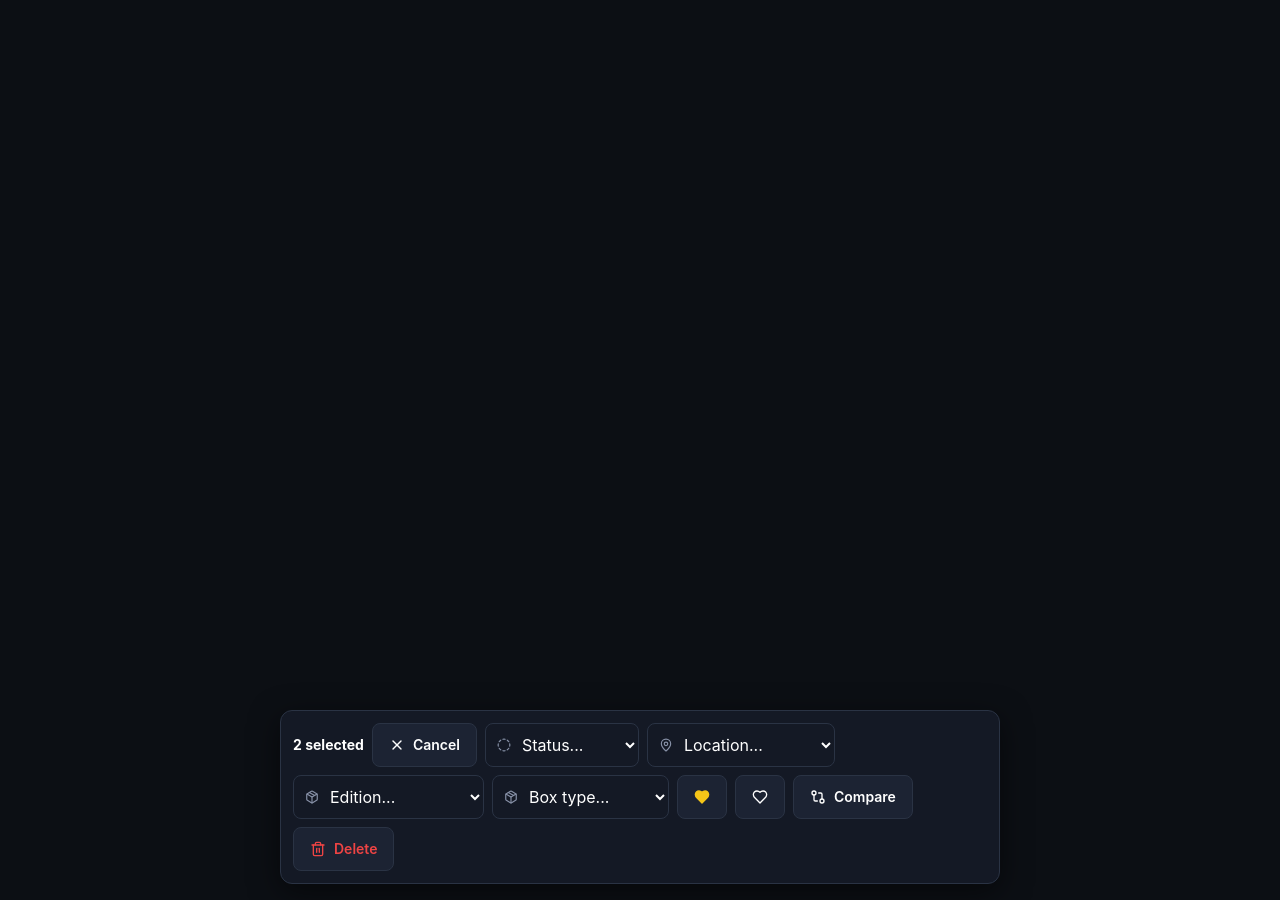
Test: BulkActionBar branches › aborts a delete run mid-flight and reports the stopped state
Click the button "Delete". click: (344,849)
box: [293,827,394,871]
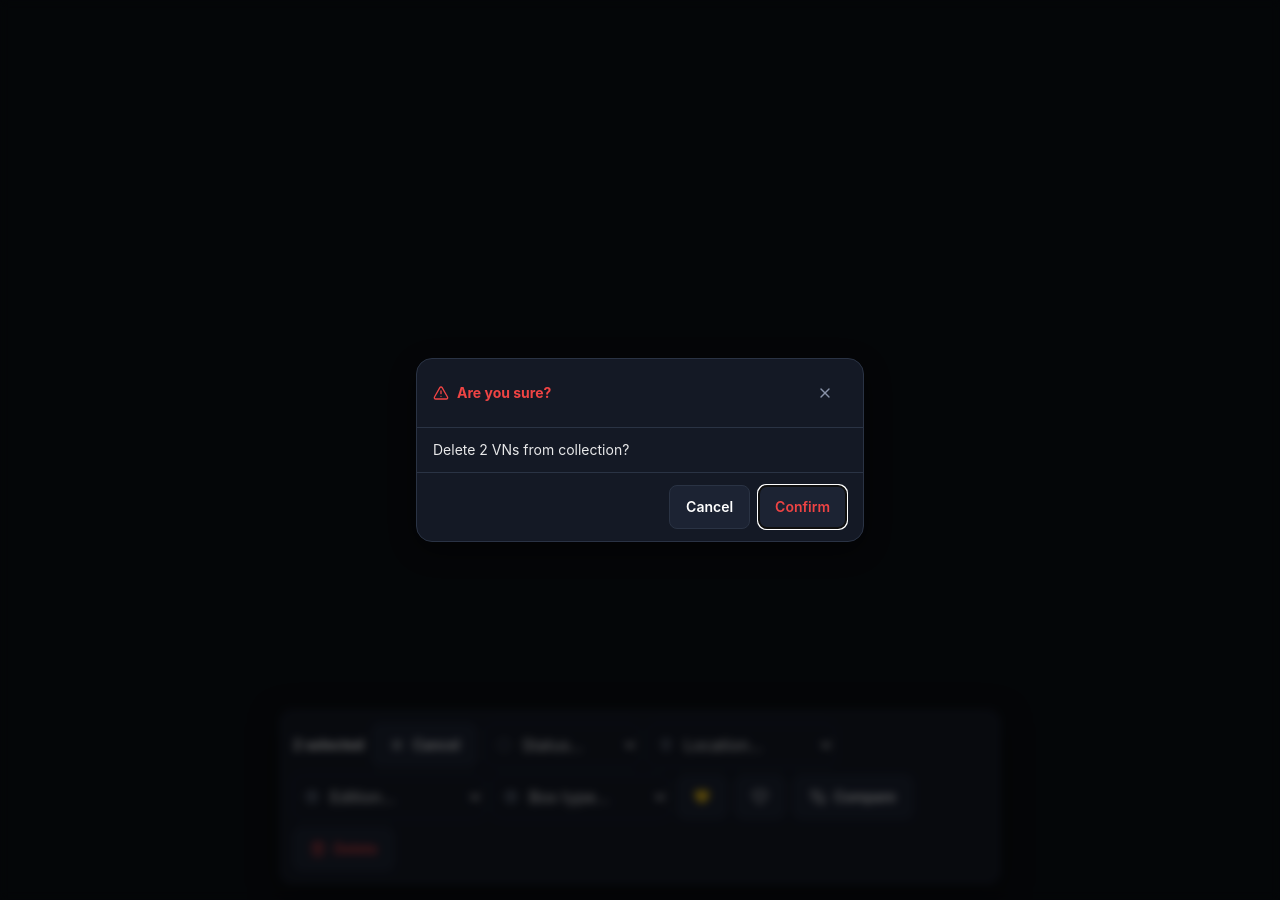
Click the button "Confirm". click: (803,507)
box: [758,485,847,529]
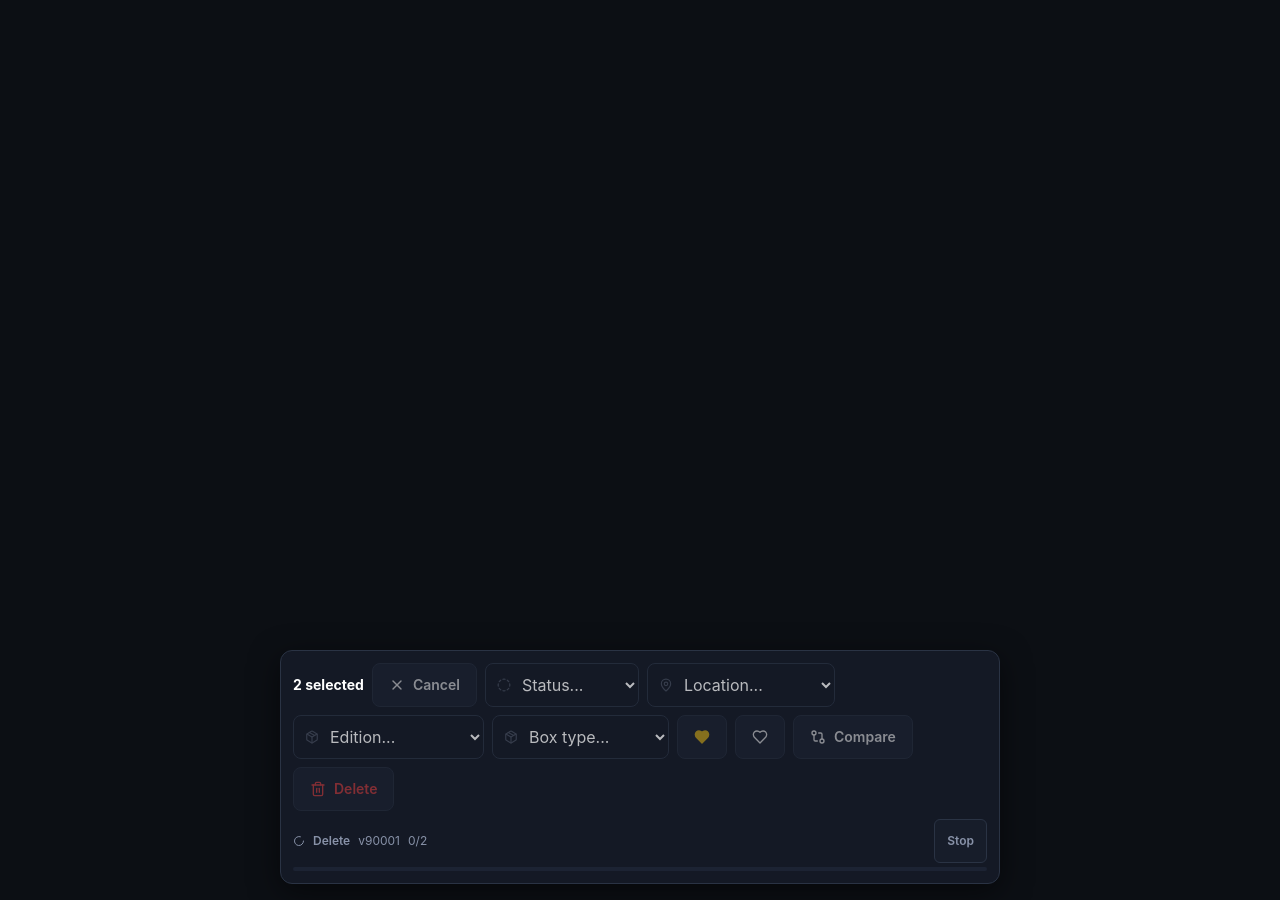
Click the button "Stop". click: (961,841)
box: [934,819,987,863]
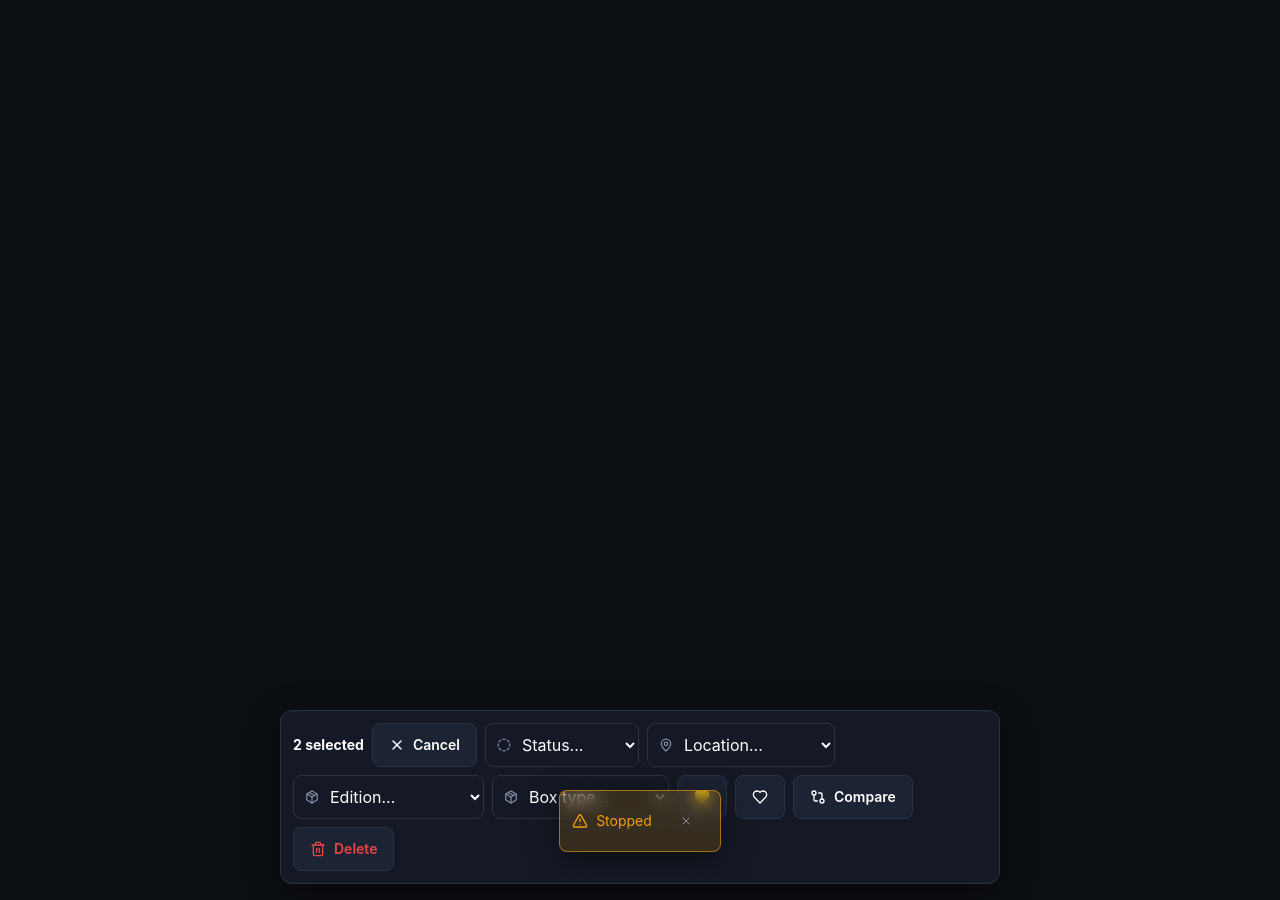
Check: the text "Stopped" is shown, box [596,811,652,831]
